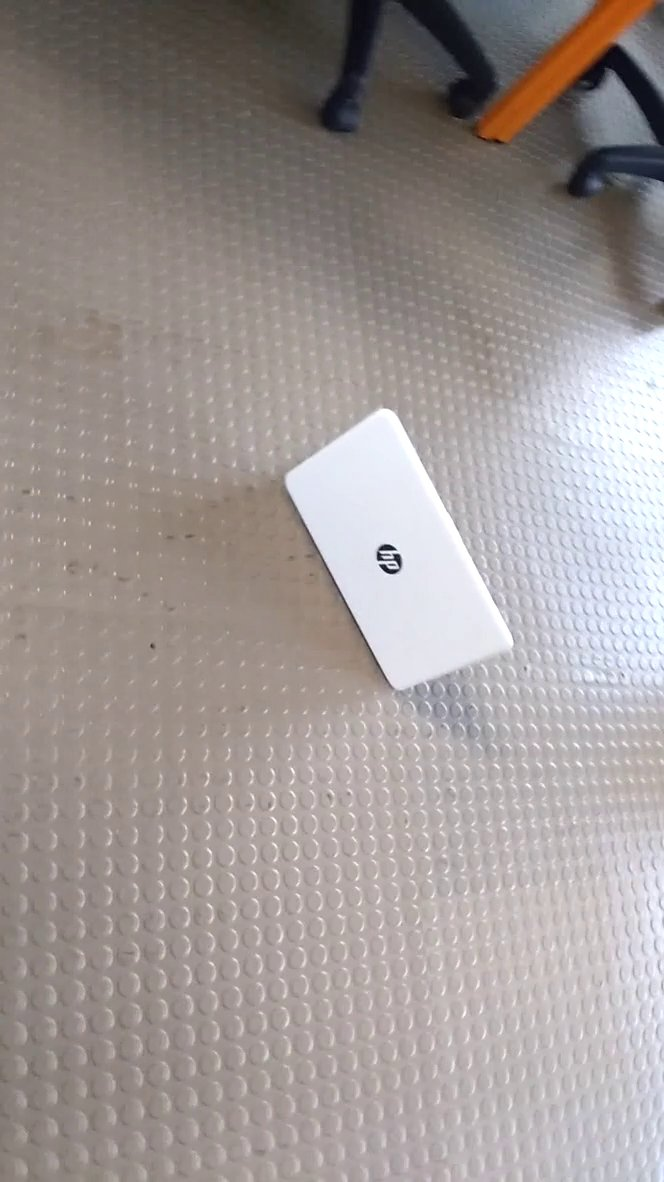laptop: (273, 401, 521, 701)
